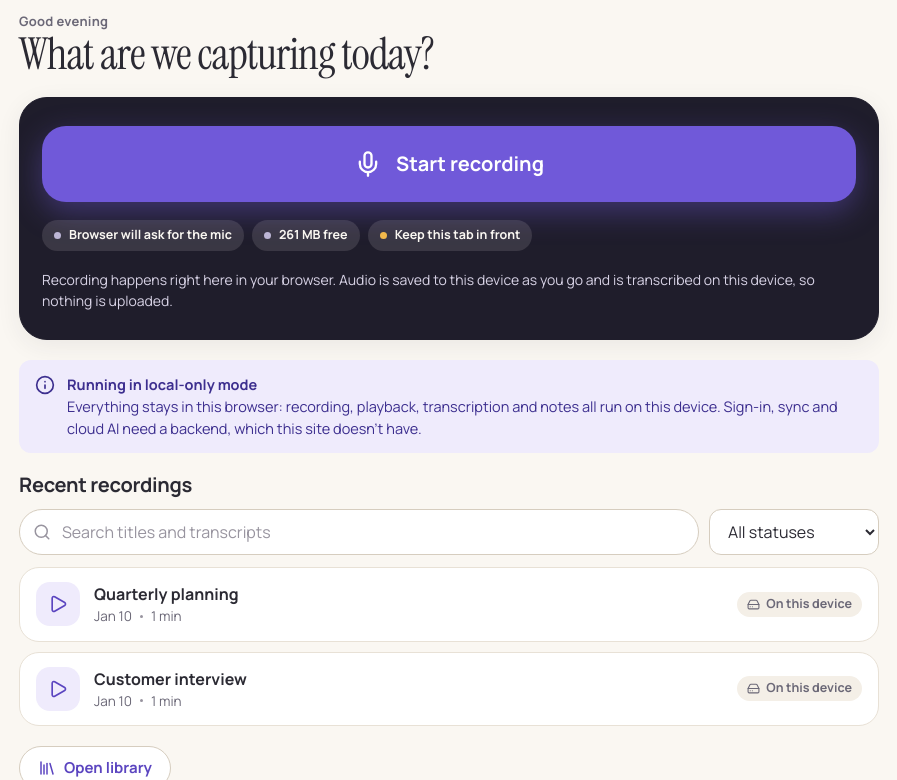
Dashboard › lists recent recordings and filters them by search text
The width and height of the screenshot is (897, 780).
Check: the text "Quarterly planning" is shown, box [94, 583, 239, 605]
Check: the text "Customer interview" is shown, box [94, 668, 247, 690]
In the search field named "search recordings": (359, 532) [19, 509, 699, 555], type "invoices"
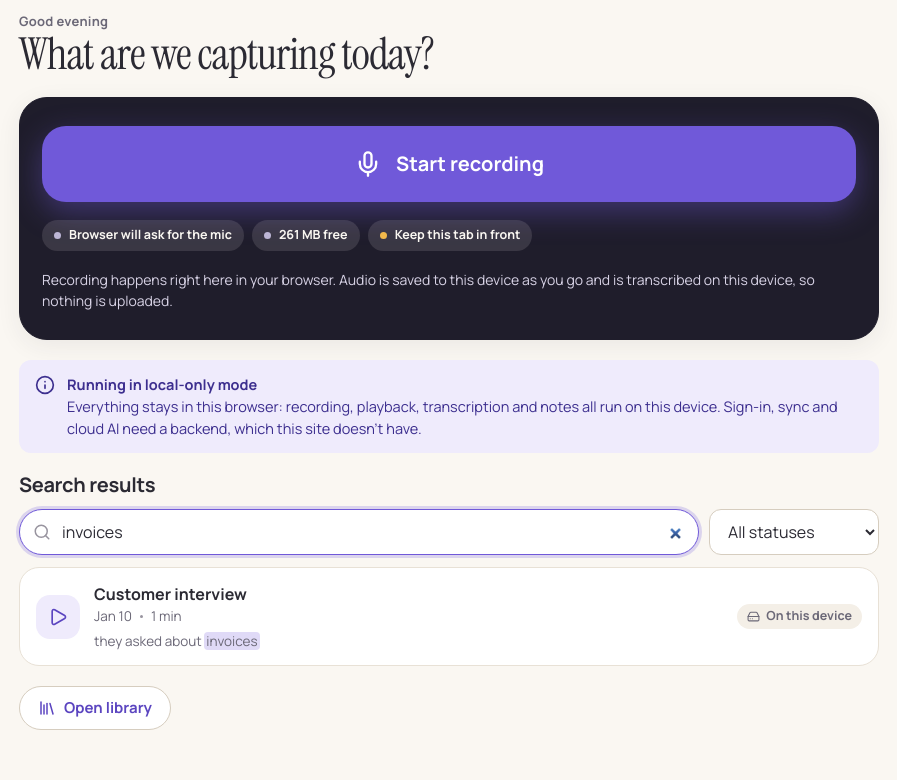
Check: the text "Customer interview" is shown, box [94, 583, 247, 605]
Check: the link "Quarterly planning" is gone
Replace the text in the search field named "search recordings" with "zzzz": (359, 532) [19, 509, 699, 555]
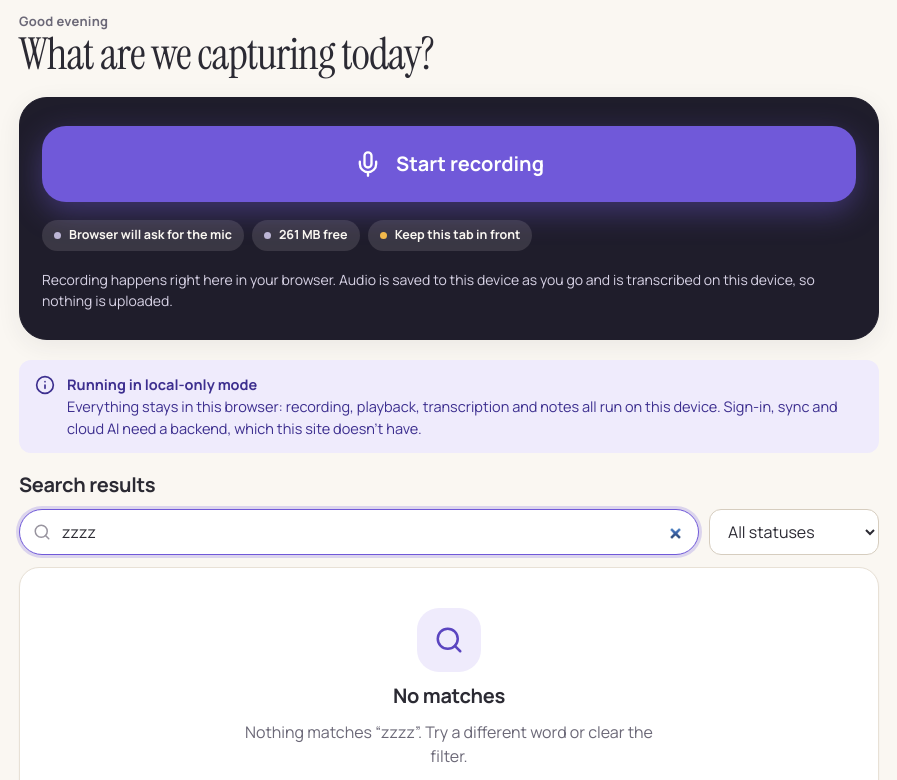
Check: the heading "No matches" is shown, box [393, 684, 505, 708]
